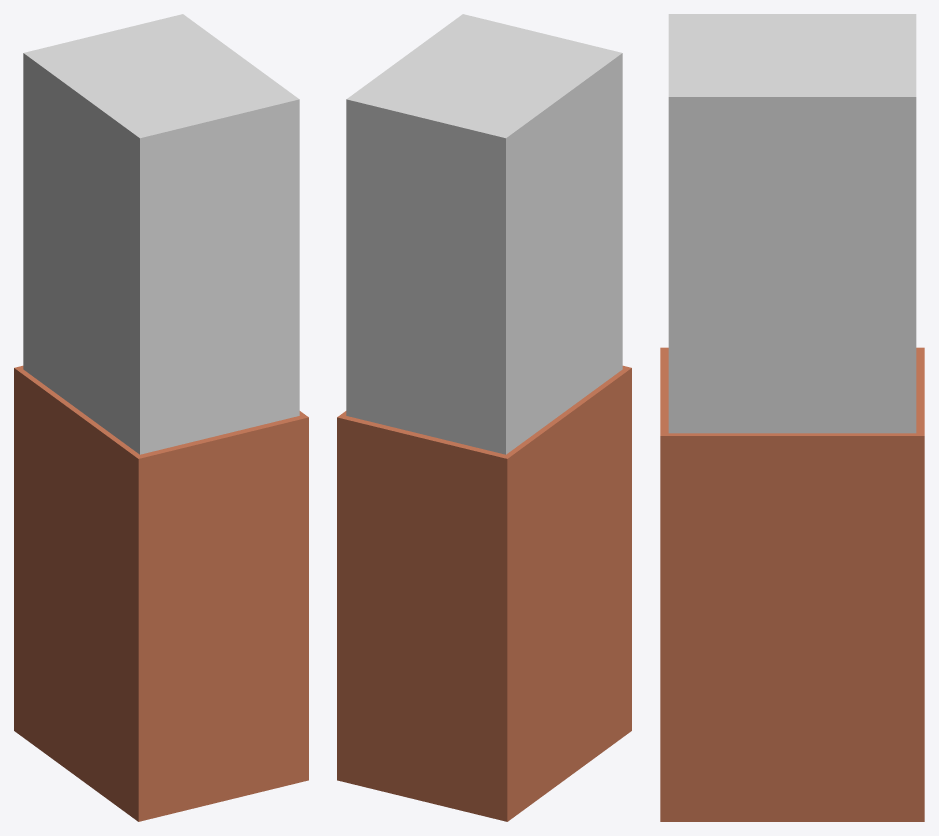
Rendered from SM_AmuletCasing.fbx.
The picture shows the model from 3 angles, left to right: view 1: azimuth 30°, elevation 25°; view 2: azimuth 150°, elevation 25°; view 3: azimuth 270°, elevation 25°; orthographic projection. The views are drawn at different scales.
Parts seen in each view (by area): view 1: Amulet Casing, Amulet Casing Door; view 2: Amulet Casing, Amulet Casing Door; view 3: Amulet Casing, Amulet Casing Door.
Boxes of the visible parts, x1,y1,x2,y2 form: Amulet Casing: (14, 15, 308, 821); Amulet Casing Door: (177, 14, 299, 417); Amulet Casing: (337, 15, 631, 821); Amulet Casing Door: (346, 14, 468, 417); Amulet Casing: (660, 14, 924, 821); Amulet Casing Door: (668, 93, 916, 433).
Bounding box in the file's own units: 41.88 × 160 × 52.98.
